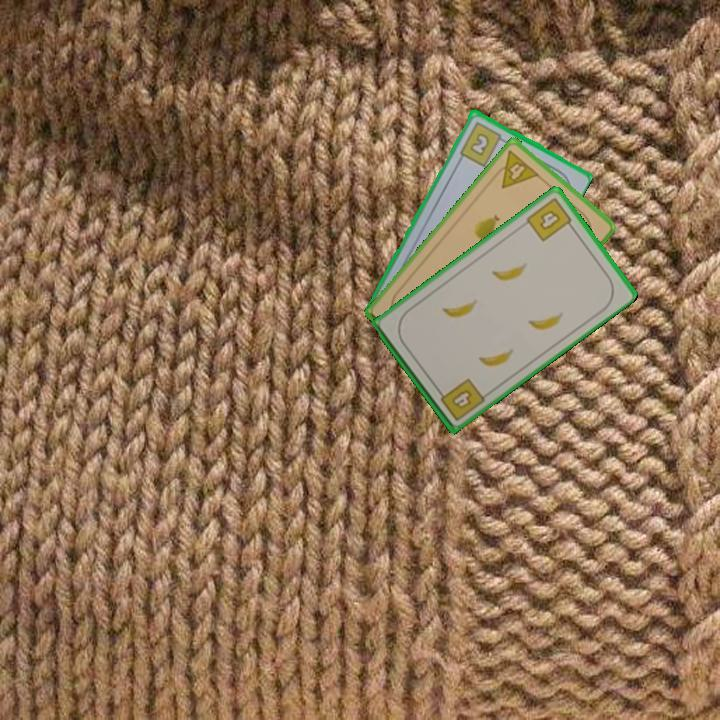2b: (456, 118, 509, 169)
4b: (522, 194, 577, 244), (433, 374, 488, 424)
4p: (488, 146, 542, 191)
